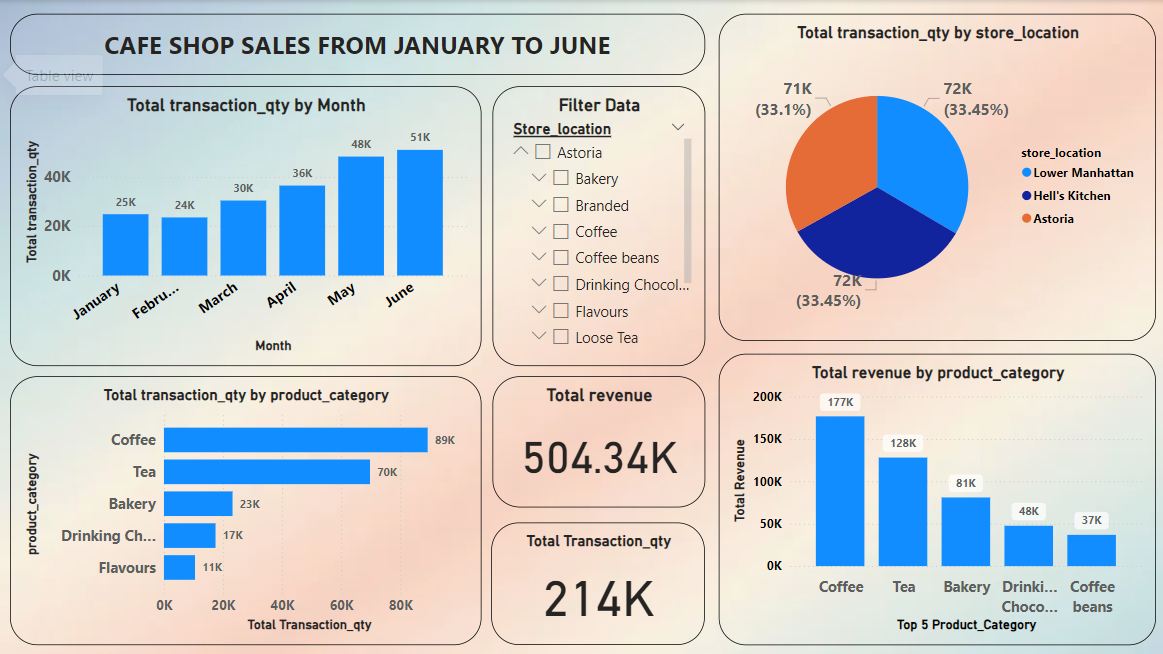

The page's visual inventory and layout, read from the dashboard file:
{"tool":"powerbi","page":{"name":"Page 1","canvas":[1280,720],"ordinal":0},"visuals":[{"type":"columnChart","title":"Total transaction_qty by Month","fields":{"Category":["Transactions.transaction_date.Variation.Date Hierarchy.Month"],"Y":["Sum(Transactions.transaction_qty)"]},"box":[11,94.7,517.3,307.4],"z":0},{"type":"pieChart","title":"Total transaction_qty by store_location","fields":{"Category":["Transactions.store_location"],"Y":["Sum(Transactions.transaction_qty)"]},"box":[789,15.1,480.3,359.5],"z":1000},{"type":"textbox","box":[11,15.1,763,67.2],"z":2000},{"type":"clusteredBarChart","title":"Total transaction_qty by product_category","fields":{"Category":["Transactions.product_category"],"Y":["Sum(Transactions.transaction_qty)"]},"box":[11,413,517.3,295],"z":3000},{"type":"card","title":"Total revenue","fields":{"Values":["Sum(Transactions.unit_price)"]},"box":[540.7,413,233.3,144.1],"z":4000},{"type":"card","title":"Total Transaction_qty","fields":{"Values":["Sum(Transactions.transaction_qty)"]},"box":[539.3,573.6,234.6,134.5],"z":5000},{"type":"lineStackedColumnComboChart","title":"Total revenue by product_category","fields":{"Category":["Transactions.product_category"],"Y":["Sum(Transactions.unit_price)"]},"box":[789,388.3,480.3,319.7],"z":6000},{"type":"slicer","title":"Filter Data","fields":{"Values":["Transactions.store_location","Transactions.product_category","Transactions.product_type"]},"box":[540.7,94.7,233.3,307.4],"z":7000}]}

Visuals, with their boxes in screenshot pixels (x1, y1, x2, y2), scaled from the page's 1280x720 canvas onto the 1163x654 screenshot:
"Total transaction_qty by Month" columnChart: (x1=10, y1=86, x2=480, y2=365)
"Total transaction_qty by store_location" pieChart: (x1=717, y1=14, x2=1153, y2=340)
textbox: (x1=10, y1=14, x2=703, y2=75)
"Total transaction_qty by product_category" clusteredBarChart: (x1=10, y1=375, x2=480, y2=643)
"Total revenue" card: (x1=491, y1=375, x2=703, y2=506)
"Total Transaction_qty" card: (x1=490, y1=521, x2=703, y2=643)
"Total revenue by product_category" lineStackedColumnComboChart: (x1=717, y1=353, x2=1153, y2=643)
"Filter Data" slicer: (x1=491, y1=86, x2=703, y2=365)
